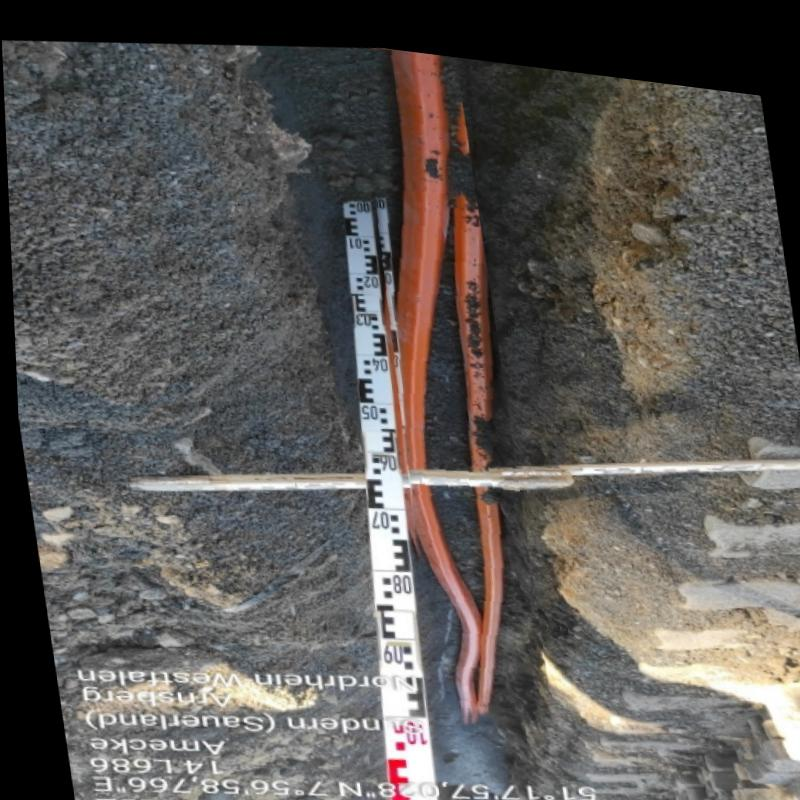Orang-Speednetrohrchen: (385, 39, 496, 706)
